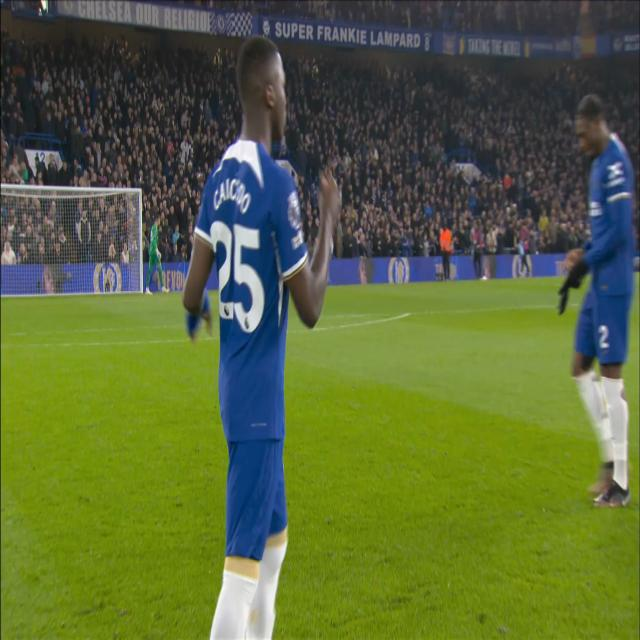Chelsea: (180, 32, 343, 638), (555, 84, 640, 513)
